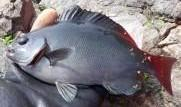fish: (5, 5, 178, 101)
